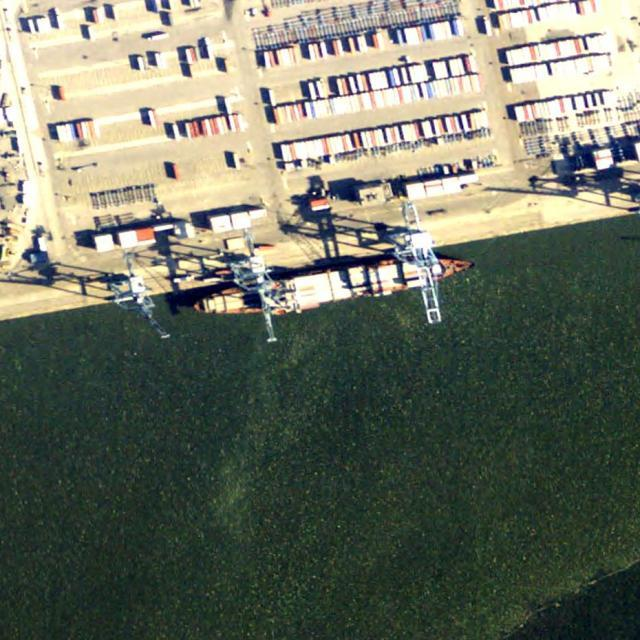Container Ship: (189, 242, 478, 329)
